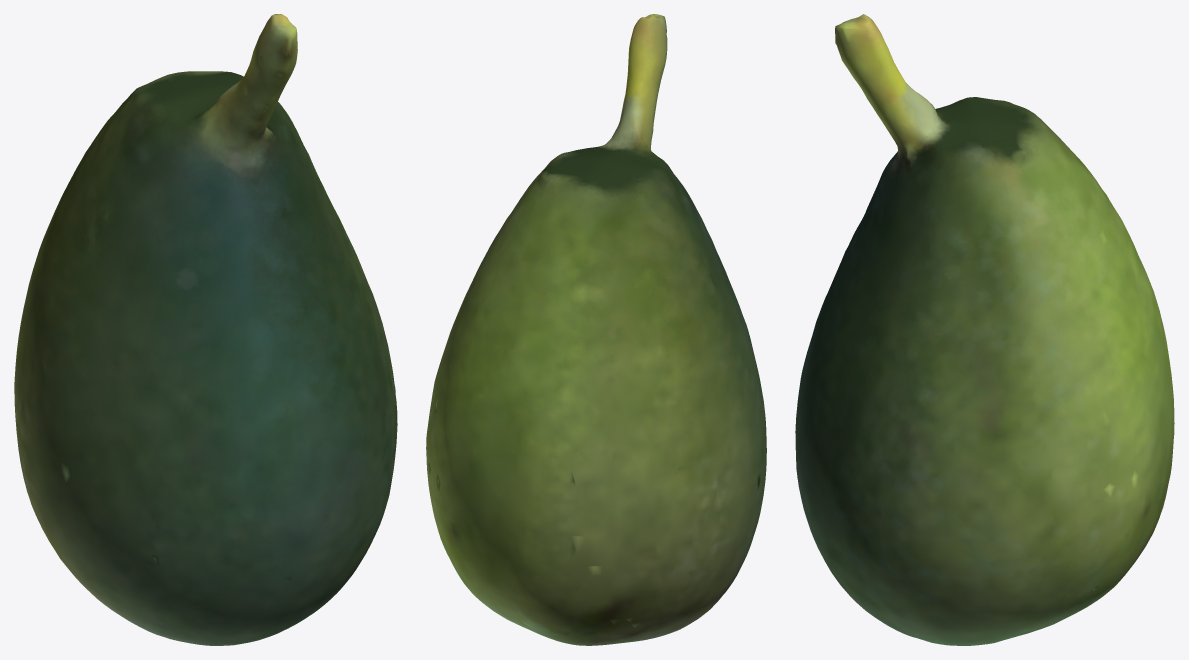
The picture shows the model from 3 angles, left to right: view 1: azimuth 30°, elevation 25°; view 2: azimuth 150°, elevation 25°; view 3: azimuth 270°, elevation 25°; orthographic projection. The views are drawn at different scales.
Visible parts, largest first — view 1: geo1; view 2: geo1; view 3: geo1.
Boxes of the visible parts, left/top/right/bottom form: geo1: left=14, top=14, right=397, bottom=645; geo1: left=426, top=14, right=766, bottom=645; geo1: left=795, top=14, right=1174, bottom=645.
Bounding box in the file's own units: 0.0694 × 0.1312 × 0.073.
Materials: 1 (1 with a texture image).
